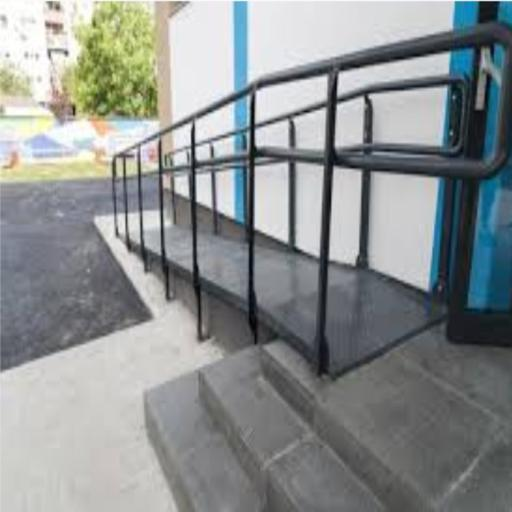pole: (327, 264, 444, 376)
sofa: (146, 342, 511, 511)
